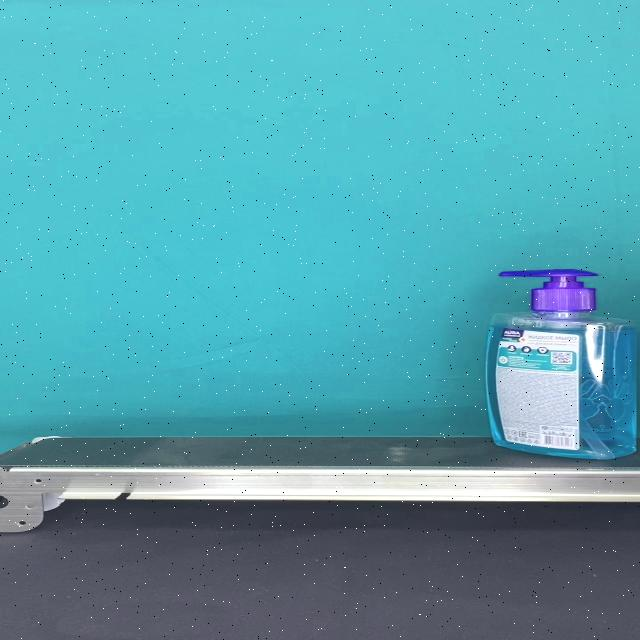Bottle: (486, 269, 636, 459)
Cap: (498, 269, 598, 311)
